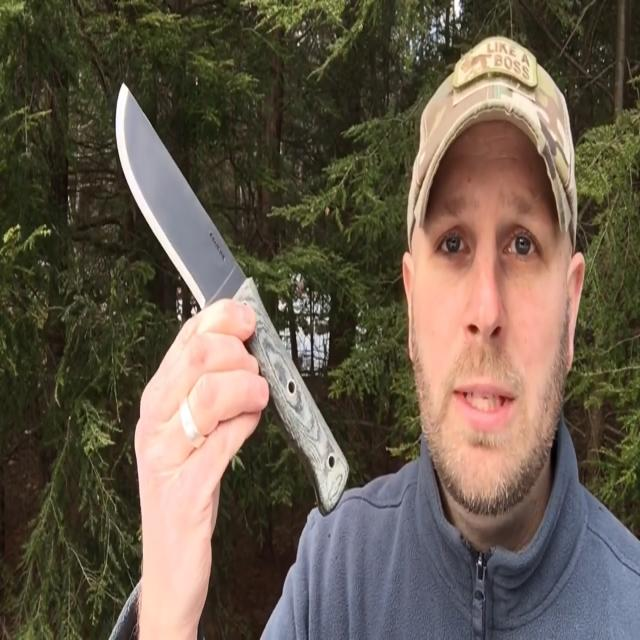knife: (114, 77, 351, 517)
